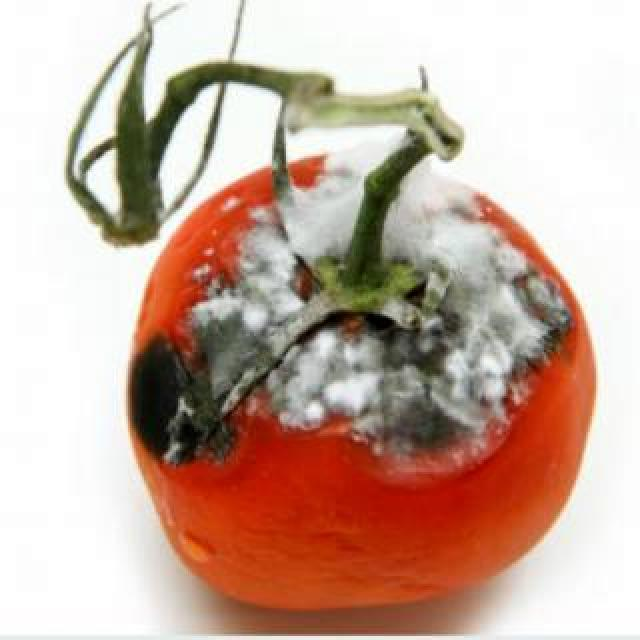Rotten_Tomato: (118, 134, 606, 622)
